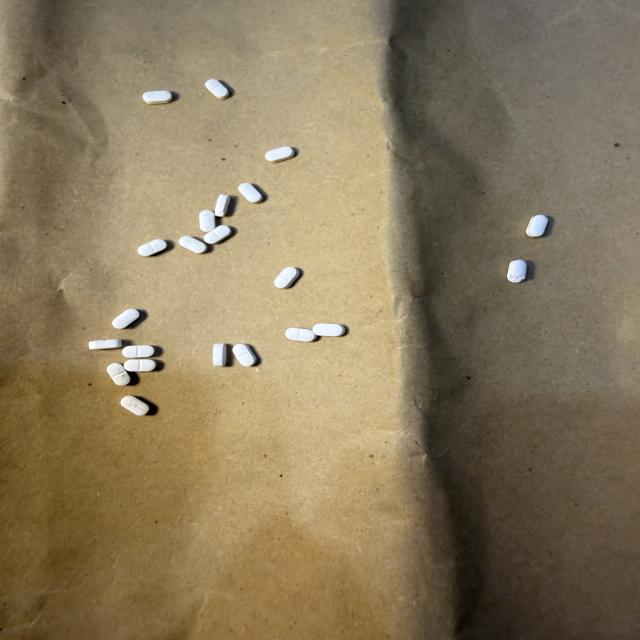pill: (112, 309, 140, 329), (121, 396, 149, 415), (274, 267, 299, 288), (204, 225, 231, 244), (233, 344, 256, 366), (107, 364, 130, 385), (238, 183, 262, 203), (205, 79, 229, 99), (138, 239, 166, 256), (526, 215, 547, 237), (179, 236, 206, 253), (507, 260, 526, 283), (265, 147, 294, 162), (286, 328, 316, 341), (313, 324, 345, 336), (122, 346, 154, 358), (143, 91, 172, 104), (88, 338, 122, 349), (199, 210, 215, 232), (124, 360, 156, 371), (215, 195, 230, 216), (213, 344, 226, 366)
